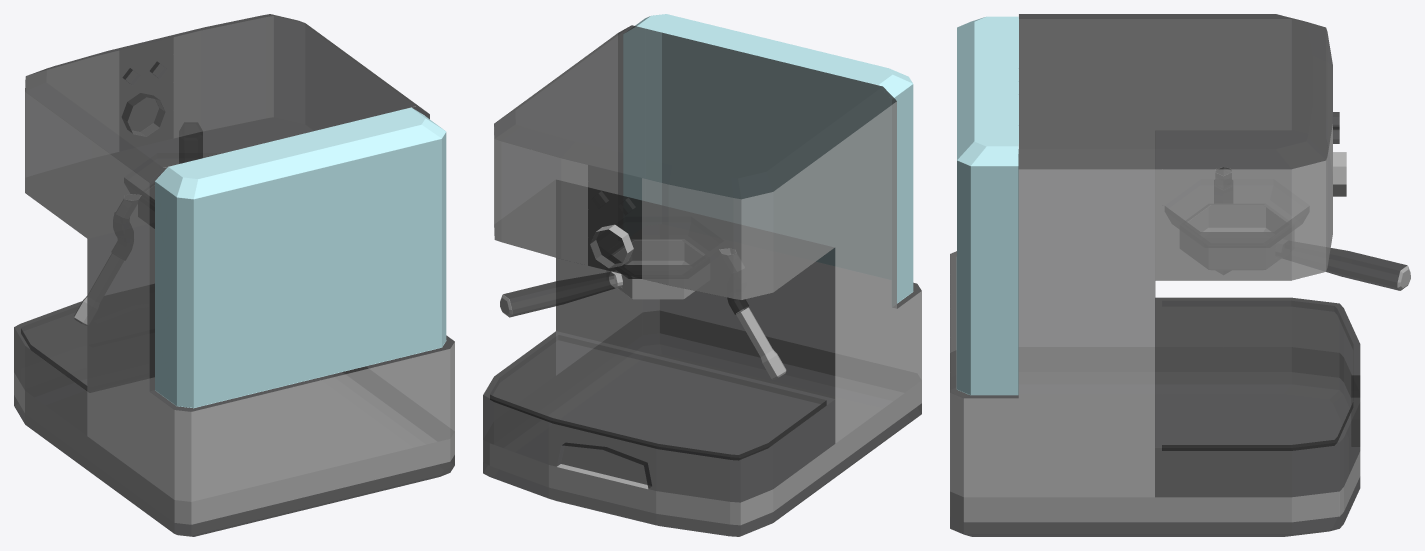
File: single_espresso_exportPrep.gltf
3 views of the same model, side by side, from view 1: azimuth 30°, elevation 25°; view 2: azimuth 150°, elevation 25°; view 3: azimuth 270°, elevation 25° (orthographic). The views are drawn at different scales.
Parts seen in each view (by area): view 1: EspressoMachine; view 2: EspressoMachine; view 3: EspressoMachine.
Boxes of the visible parts, <box> form: EspressoMachine: <box>14,14,454,536</box>; EspressoMachine: <box>483,14,921,536</box>; EspressoMachine: <box>950,14,1410,536</box>.
Bounding box in the file's own units: 1.3 × 1.55 × 1.68.
